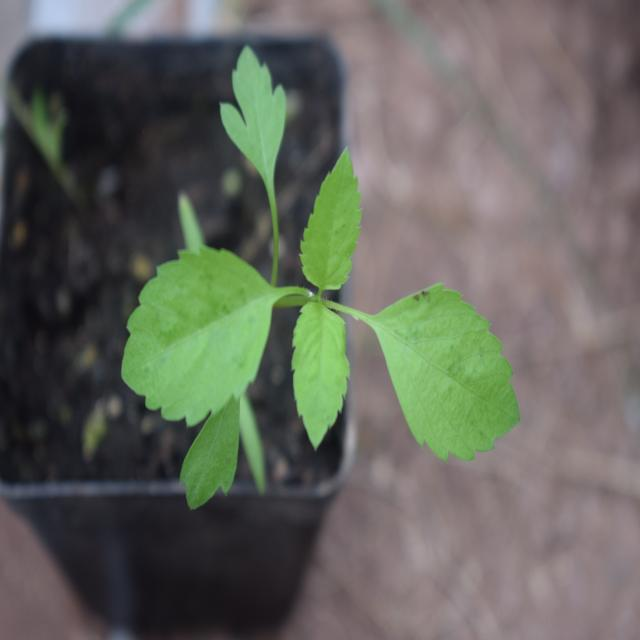Bidens pilosa: (120, 58, 508, 524)
